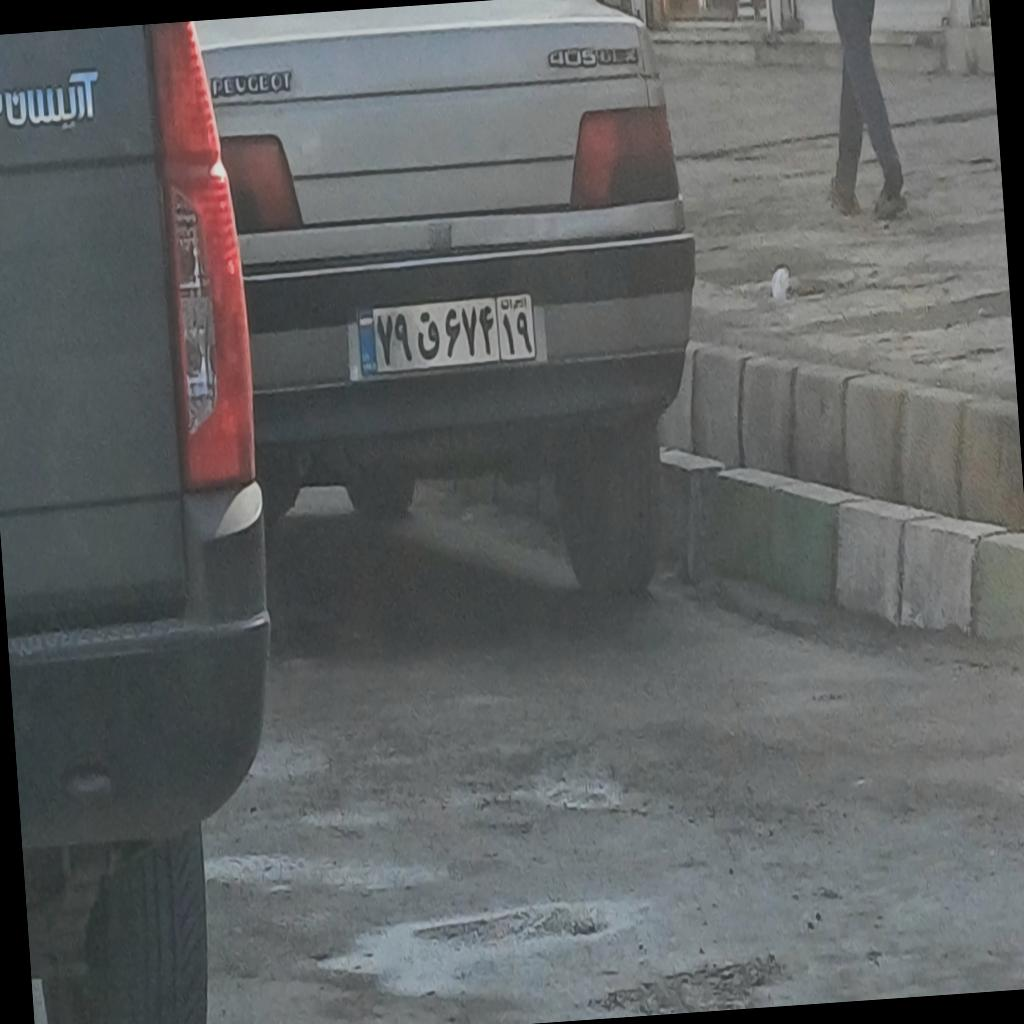Plates: (356, 292, 536, 376)
